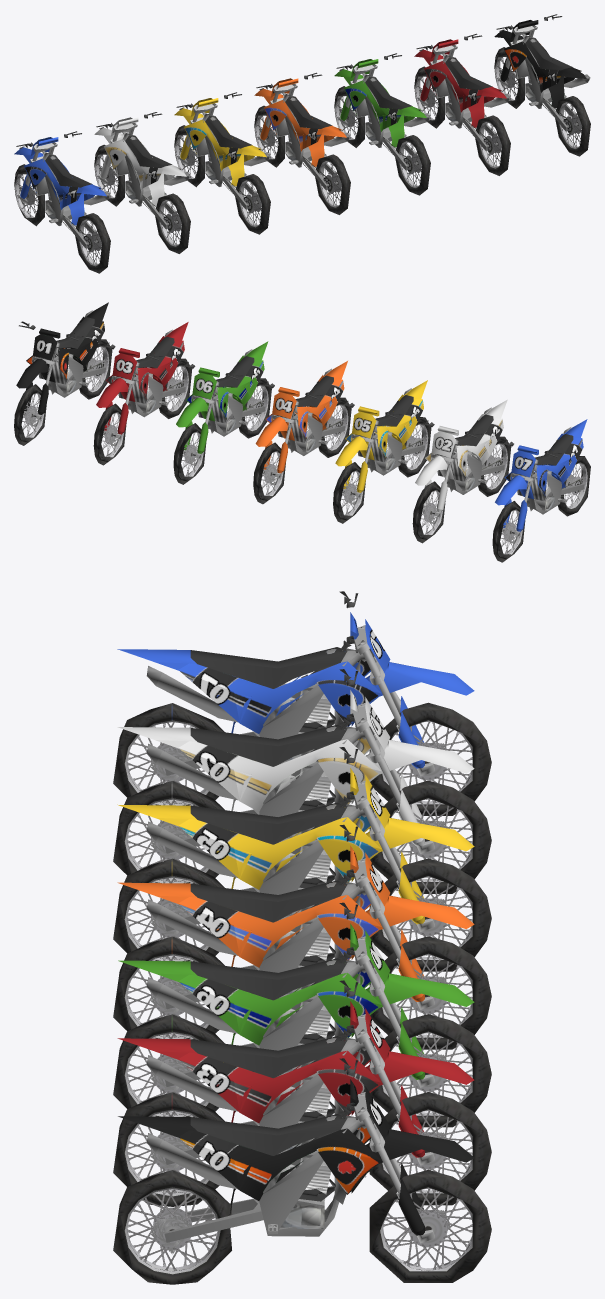
Rendered from prop_moto.glb.
The picture shows the model from 3 angles, top to bottom: view 1: azimuth 30°, elevation 25°; view 2: azimuth 150°, elevation 25°; view 3: azimuth 270°, elevation 25°; orthographic projection. The views are drawn at different scales.
Parts seen in each view (by area): view 1: dirt_bike red, dirt_bike orange, dirt_bike green, dirt_bike white, dirt_bike black, dirt_bike yellow, dirt_bikeblue, rear_wheel.003, rear_wheel.006, rear_wheel.004, rear_wheel, rear_wheel.002 (+30 smaller); view 2: dirt_bike orange, dirt_bike green, dirt_bike red, dirt_bikeblue, dirt_bike black, dirt_bike white, dirt_bike yellow, throttle.004, throttle.007, throttle.006, throttle.003, throttle.002 (+16 smaller); view 3: dirt_bike black, dirt_bike white, dirt_bike red, dirt_bikeblue, dirt_bike yellow, dirt_bike orange, dirt_bike green, front_wheel.004, rear_wheel.004, front_wheel, front_wheel.006, front_wheel.002 (+25 smaller).
Boxes of the visible parts, left/top/right/bottom form: dirt_bike red: left=424, top=53, right=506, bottom=128; dirt_bike orange: left=264, top=92, right=346, bottom=167; dirt_bike green: left=344, top=73, right=426, bottom=147; dirt_bike white: left=104, top=131, right=186, bottom=206; dirt_bike black: left=504, top=34, right=586, bottom=108; dirt_bike yellow: left=184, top=112, right=266, bottom=186; dirt_bikeblue: left=24, top=151, right=106, bottom=225; rear_wheel.003: left=475, top=115, right=510, bottom=175; rear_wheel.006: left=155, top=193, right=190, bottom=253; rear_wheel.004: left=555, top=96, right=590, bottom=156; rear_wheel: left=315, top=154, right=350, bottom=214; rear_wheel.002: left=395, top=135, right=430, bottom=195; dirt_bike orange: left=265, top=361, right=347, bottom=455; dirt_bike green: left=185, top=341, right=268, bottom=436; dirt_bike red: left=106, top=322, right=188, bottom=417; dirt_bikeblue: left=504, top=419, right=587, bottom=514; dirt_bike black: left=26, top=302, right=108, bottom=397; dirt_bike white: left=425, top=399, right=507, bottom=494; dirt_bike yellow: left=345, top=380, right=427, bottom=475; throttle.004: left=16, top=321, right=83, bottom=388; throttle.007: left=335, top=399, right=402, bottom=466; throttle.006: left=415, top=418, right=482, bottom=485; throttle.003: left=96, top=341, right=163, bottom=407; throttle.002: left=176, top=360, right=242, bottom=427; dirt_bike black: left=118, top=1114, right=381, bottom=1236; dirt_bike white: left=117, top=725, right=381, bottom=839; dirt_bike red: left=117, top=1036, right=381, bottom=1150; dirt_bikeblue: left=117, top=647, right=381, bottom=761; dirt_bike yellow: left=117, top=802, right=381, bottom=917; dirt_bike orange: left=117, top=880, right=381, bottom=994; dirt_bike green: left=118, top=958, right=381, bottom=1072; front_wheel.004: left=369, top=1169, right=491, bottom=1282; rear_wheel.004: left=113, top=1170, right=231, bottom=1284; front_wheel: left=369, top=936, right=491, bottom=1049; front_wheel.006: left=369, top=780, right=491, bottom=893; front_wheel.002: left=369, top=1014, right=491, bottom=1127.
Size of the model in its own units: 6.78 by 1.18 by 2.06.
Materials: 7 (7 with a texture image).
